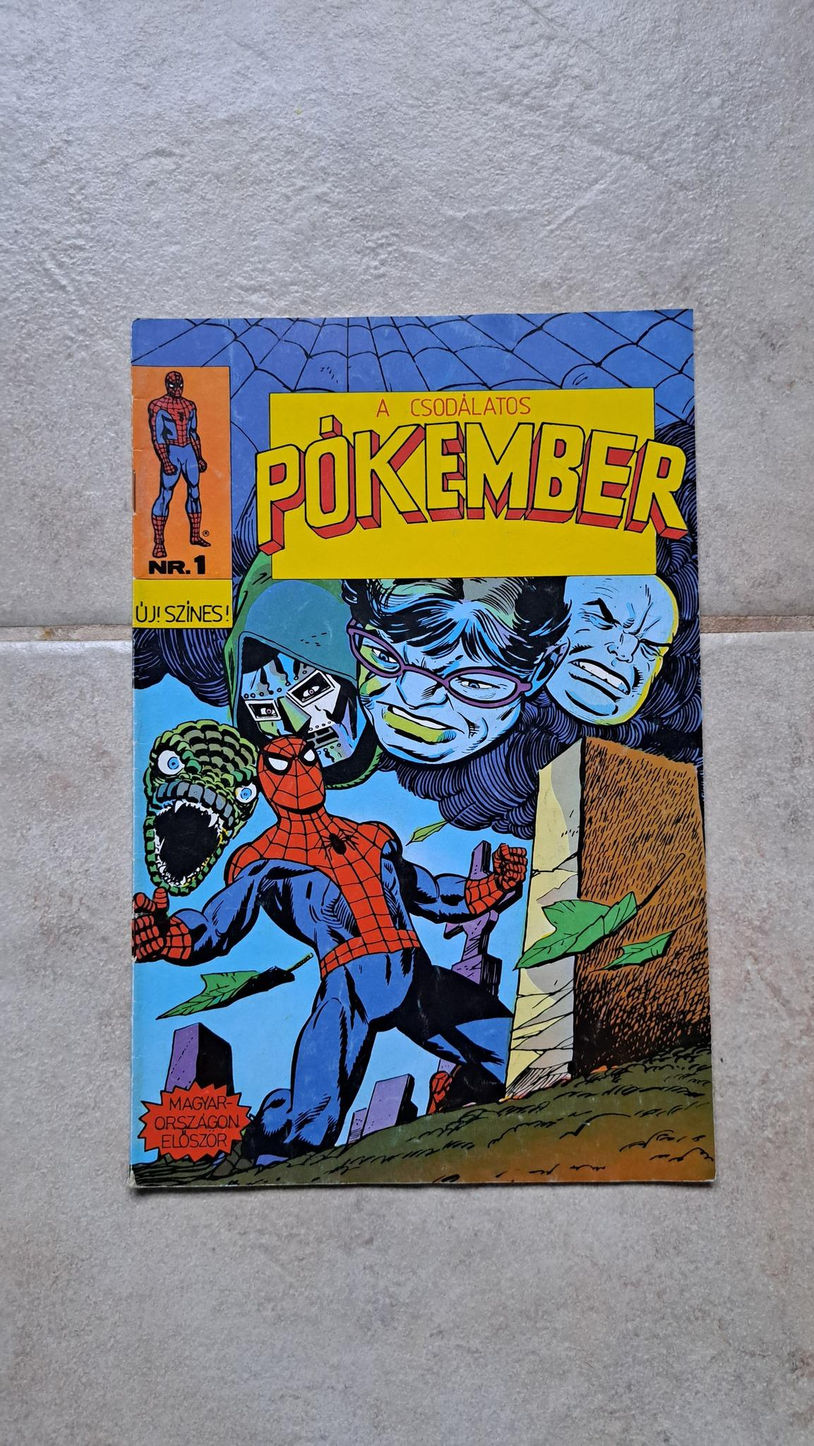comic: (119, 311, 713, 1189)
